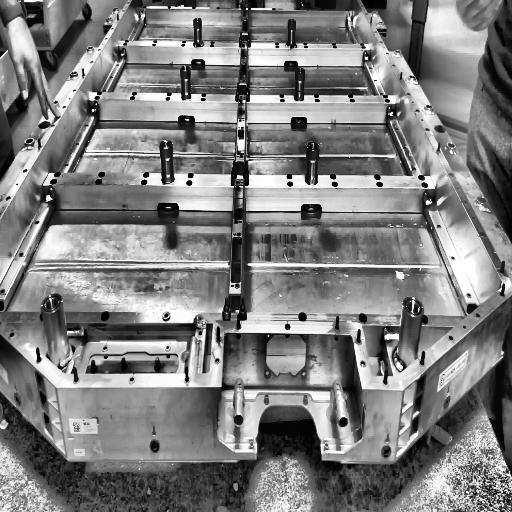b_casing: (0, 0, 512, 389)
